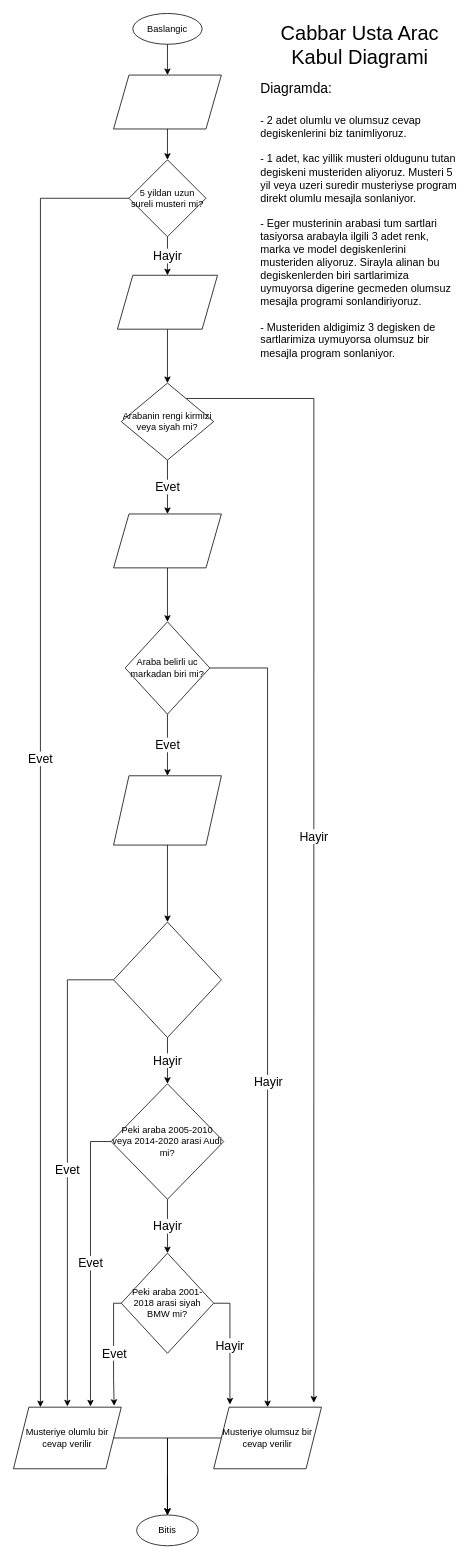
This 474x1559 diagram has some shape labels left out. The centre of each missing label's shape, as x and y in pixels:
"Araba 2010-2019 arasi kirmizi veya 2020 model siyah renkli BMW mi?" goes at (x=167, y=979).
"Arabanin kac model oldugunu musteriden aliyoruz" goes at (x=167, y=810).
"Arabanin markasini musteriden aliyoruz" goes at (x=167, y=540).
"Arabanin rengini musteriden aliyoruz" goes at (x=167, y=302).
"Kac yillik musteri oldugunu kullanicidan aliyoruz" goes at (x=167, y=101).
